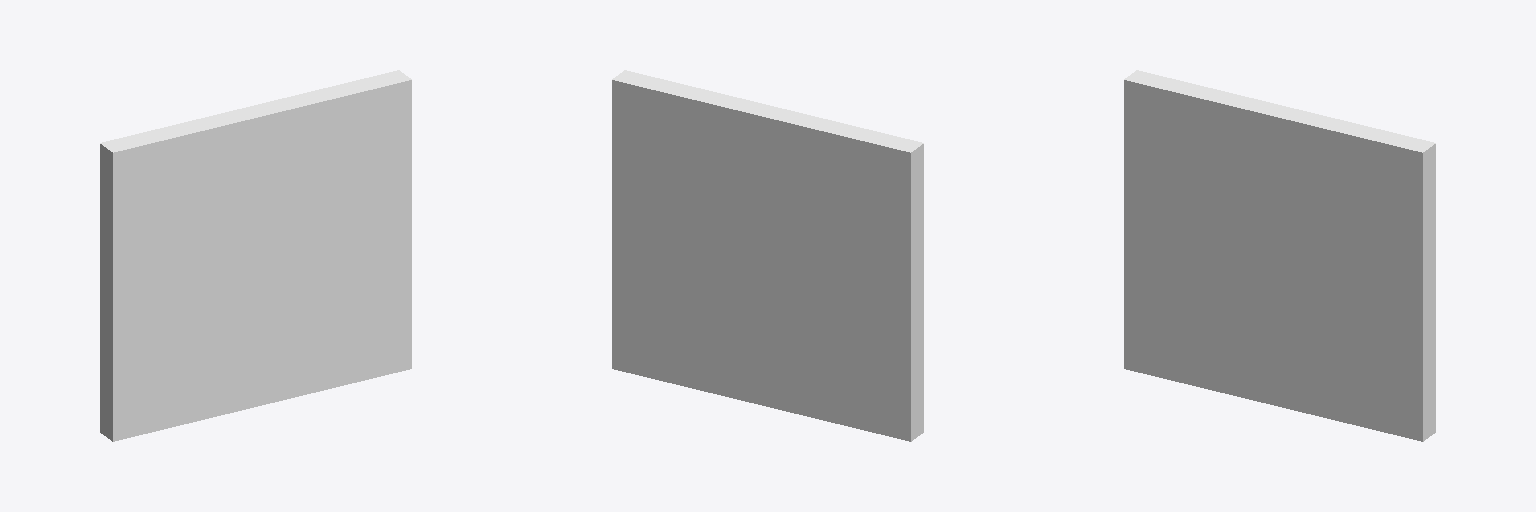
The model's file is BotonExit.obj.
3 views of the same model, side by side, from view 1: azimuth 30°, elevation 25°; view 2: azimuth 150°, elevation 25°; view 3: azimuth 330°, elevation 25° (orthographic).
Visible parts, largest first — view 1: object 1; view 2: object 1; view 3: object 1.
Boxes of the visible parts, <box> form: object 1: <box>100,70,411,441</box>; object 1: <box>612,70,923,441</box>; object 1: <box>1124,70,1435,441</box>.
Bounding box in the file's own units: 1.3 × 1.2 × 0.1.